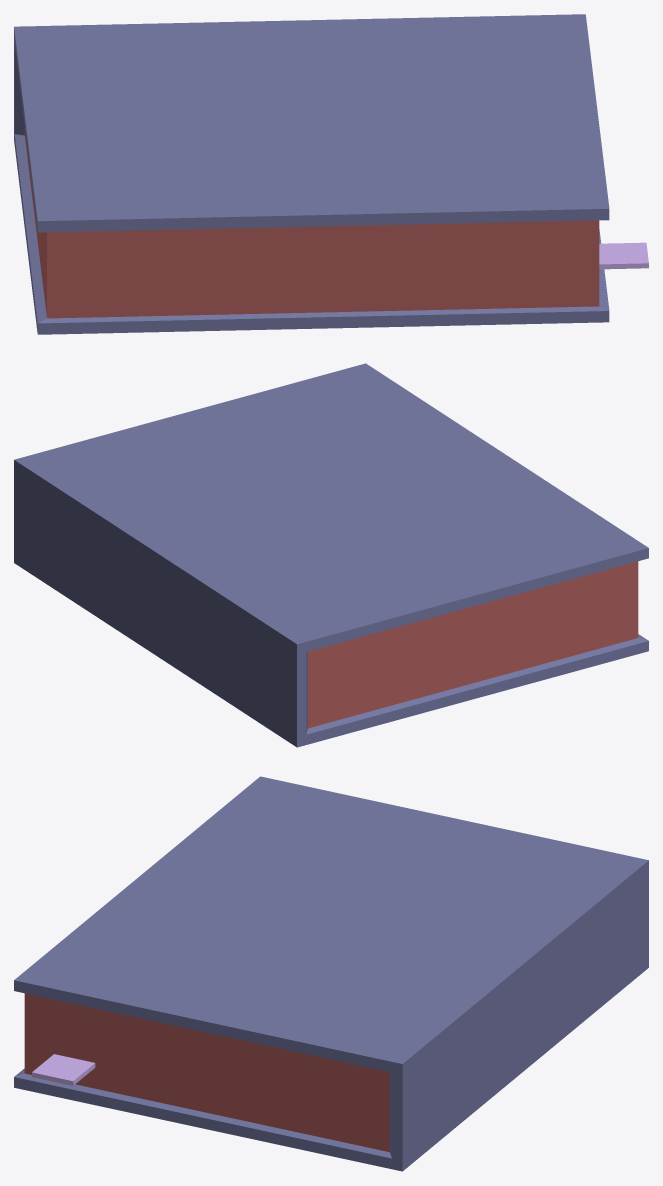
File: Backyard_Book.fbx
The picture shows the model from 3 angles, top to bottom: view 1: azimuth 30°, elevation 25°; view 2: azimuth 150°, elevation 25°; view 3: azimuth 270°, elevation 25°; orthographic projection. The views are drawn at different scales.
Parts seen in each view (by area): view 1: Backyard_Book; view 2: Backyard_Book; view 3: Backyard_Book.
Boxes of the visible parts, bbox=[...] form: Backyard_Book: bbox=[14, 14, 648, 334]; Backyard_Book: bbox=[14, 363, 648, 747]; Backyard_Book: bbox=[14, 776, 648, 1171].
Bounding box in the file's own units: 30.23 × 5.26 × 28.19.
